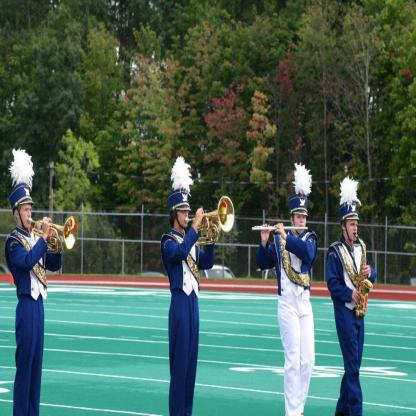face: (18, 202, 32, 229), (346, 217, 359, 242), (179, 203, 190, 228), (295, 211, 307, 233)
